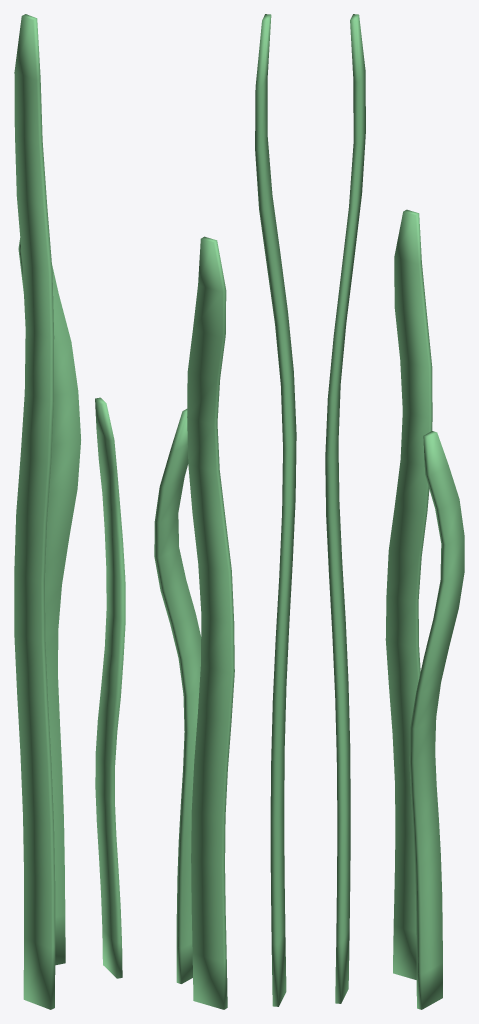
Rendered from Medium1.fbx.
3 views of the same model, side by side, from view 1: azimuth 30°, elevation 25°; view 2: azimuth 150°, elevation 25°; view 3: azimuth 330°, elevation 25° (orthographic).
Visible parts, largest first — view 1: Medium1_EXPORT; view 2: Medium1_EXPORT; view 3: Medium1_EXPORT.
Part boxes in pixels (x1,y1,x2,y2): Medium1_EXPORT: (14, 14, 125, 1009); Medium1_EXPORT: (154, 14, 296, 1009); Medium1_EXPORT: (325, 14, 464, 1009).
Size of the model in its own units: 0.9517 by 7.86 by 0.751.
